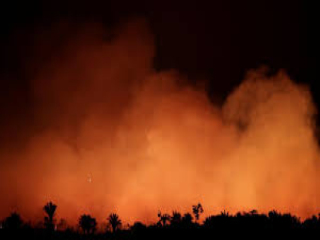smoke: (12, 48, 307, 190)
